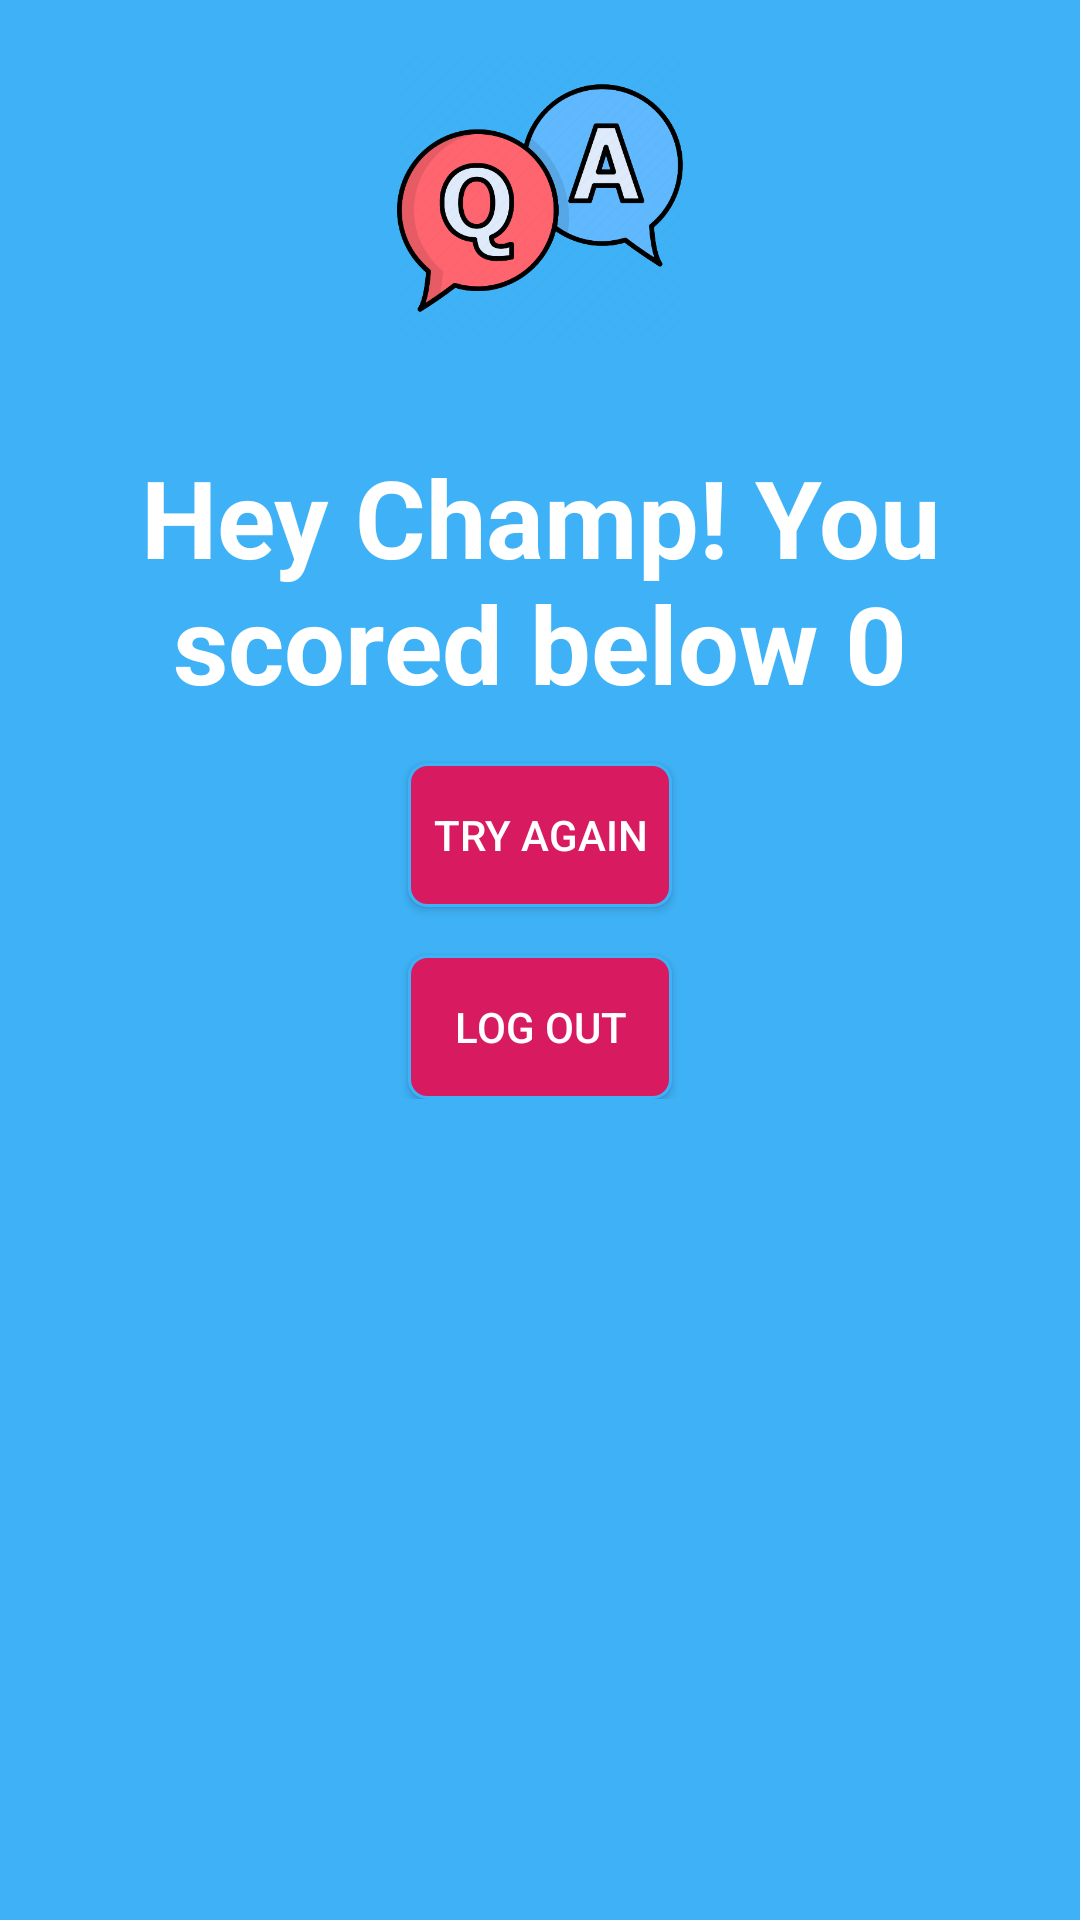

Icons on this 1080x1920 Android screen, each with its box as [x1,y1,x2,y2]:
qna: [397,84,683,312]
